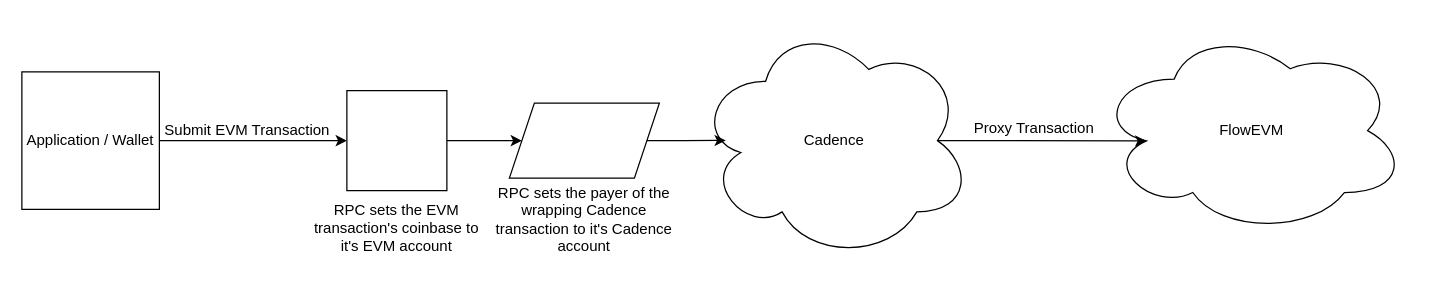
This 1429x281 diagram has some shape labels left out. Each missing label, with the centre of its shape:
RPC: [396,140]
Wrapped EVM transaction in Cadence: [583,140]
